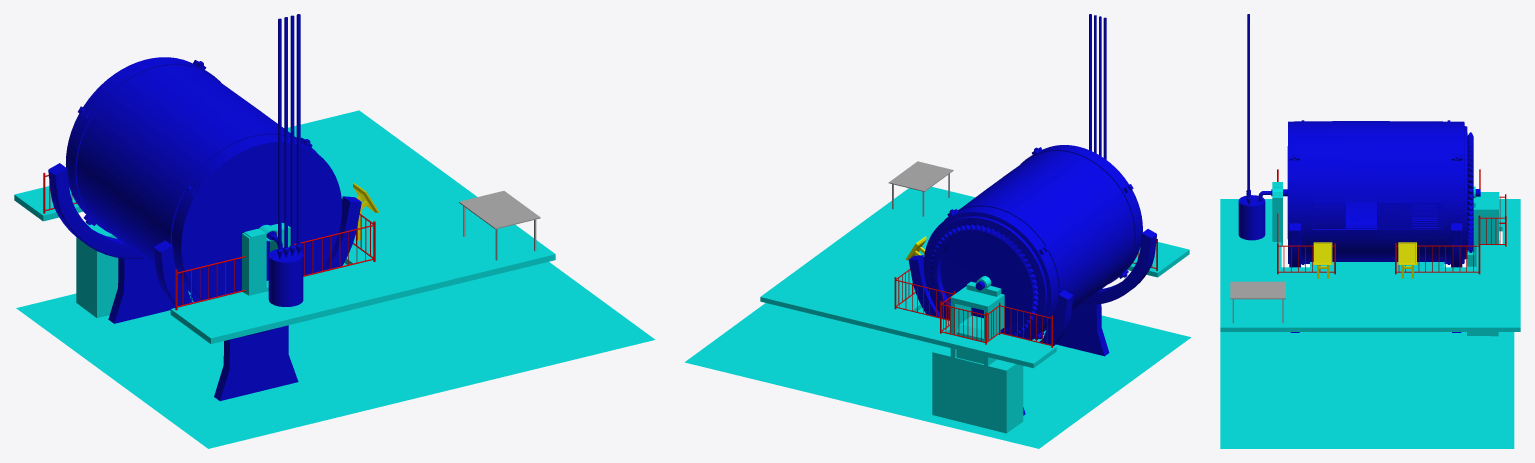
The model's file is Drumming03.fbx.
3 renders of one model, left to right at view 1: azimuth 30°, elevation 25°; view 2: azimuth 150°, elevation 25°; view 3: azimuth 270°, elevation 25°, orthographic. The views are drawn at different scales.
Visible parts, largest first — view 1: Ground_Floor, mainDrum, FirstFloor, Roller02, Roller01, pCube3, Table, CombinerTank, ChemicalPIpe03, ChemicalPIpe04, ChemicalPIpe02, ChemicalPipe01; view 2: Ground_Floor, mainDrum, FirstFloor, pCube3, Roller02, Roller01, Table, pCube4, ChemicalPipe01; view 3: Ground_Floor, FirstFloor, mainDrum, Door, pCube3, CombinerTank, Table, DoorSlider, ChemicalPIpe04, Roller01, Roller02, monitor01 (+1 smaller).
Boxes of the visible parts, box(x1,y1,x2,y2) form: Ground_Floor: box(16, 262, 655, 448); mainDrum: box(65, 57, 342, 301); FirstFloor: box(14, 110, 555, 343); Roller02: box(154, 196, 361, 400); Roller01: box(48, 163, 190, 323); pCube3: box(76, 221, 190, 317); Table: box(459, 191, 540, 260); CombinerTank: box(268, 248, 303, 306); ChemicalPIpe03: box(289, 15, 295, 256); ChemicalPIpe04: box(295, 14, 301, 254); ChemicalPIpe02: box(283, 17, 289, 257); ChemicalPipe01: box(277, 18, 282, 259); Ground_Floor: box(684, 303, 1190, 448); mainDrum: box(923, 145, 1142, 340); FirstFloor: box(760, 187, 1189, 368); pCube3: box(932, 286, 1023, 433); Roller02: box(1043, 229, 1156, 356); Roller01: box(908, 255, 1073, 415); Table: box(888, 161, 953, 216); pCube4: box(956, 315, 983, 363); ChemicalPipe01: box(1103, 17, 1106, 159); Ground_Floor: box(1220, 332, 1514, 448); FirstFloor: box(1220, 182, 1520, 331); mainDrum: box(1271, 120, 1480, 264); Door: box(1378, 198, 1440, 232); pCube3: box(1467, 192, 1499, 336); CombinerTank: box(1238, 195, 1265, 240); Table: box(1230, 281, 1285, 323); DoorSlider: box(1311, 200, 1442, 231); ChemicalPIpe04: box(1246, 21, 1250, 204); Roller01: box(1451, 223, 1462, 332); Roller02: box(1289, 223, 1300, 332); monitor01: box(1313, 242, 1332, 264).
Bounding box in the file's own units: 14.61 × 12.29 × 11.06.
